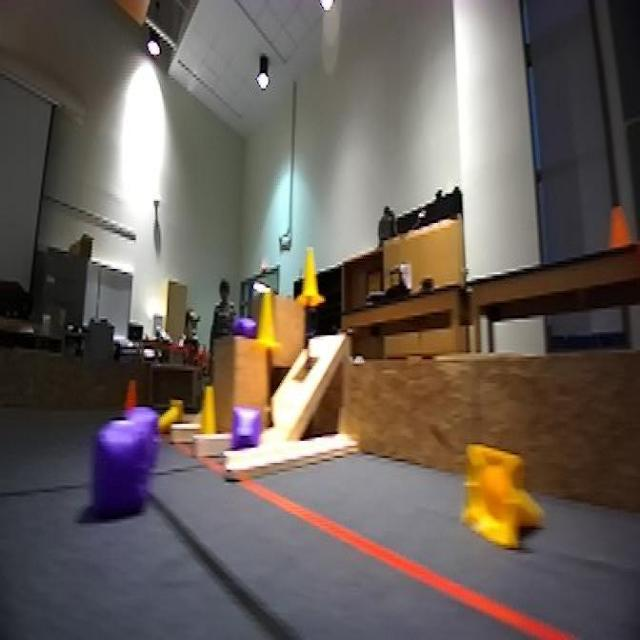frc_cone: (465, 434, 552, 557), (298, 244, 328, 306), (148, 400, 196, 436), (257, 293, 285, 352), (200, 382, 218, 432)
frc_cube: (94, 419, 156, 517), (230, 405, 266, 449), (240, 312, 264, 347)
